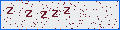z: (25, 8, 33, 19), (6, 5, 14, 15), (51, 10, 59, 18), (40, 10, 47, 19), (64, 7, 70, 15)
